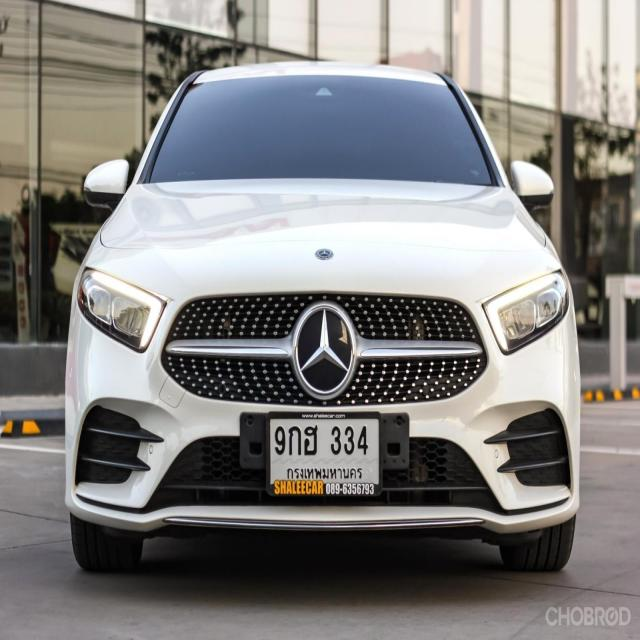license_plate: (265, 409, 384, 496)
